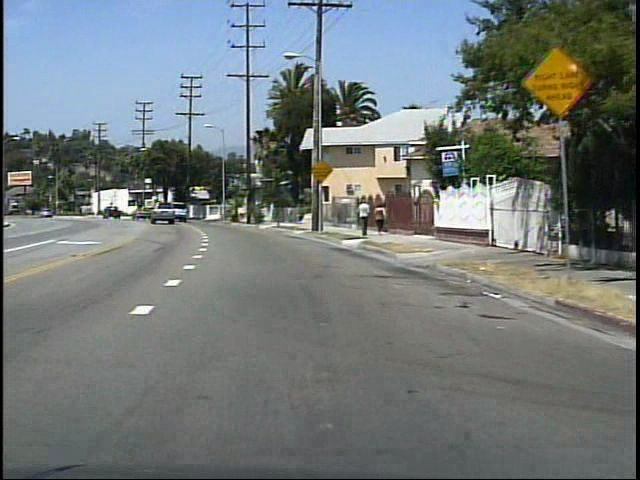person: (354, 196, 372, 239), (371, 200, 388, 235)
